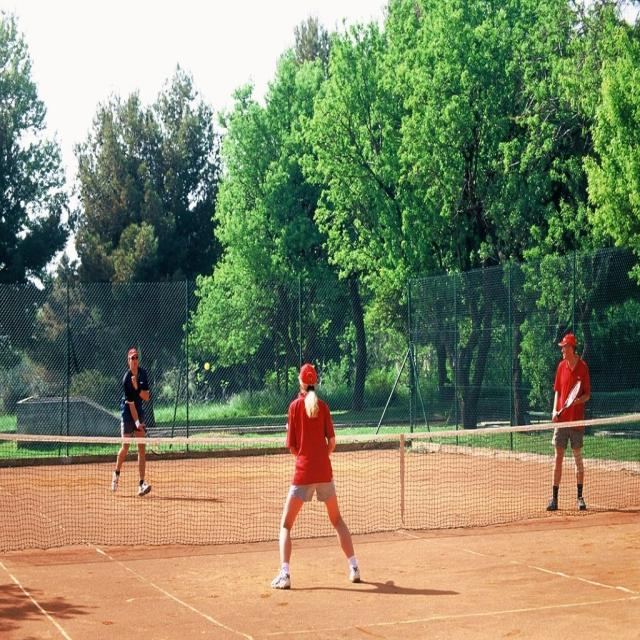ball: (204, 361, 210, 372)
